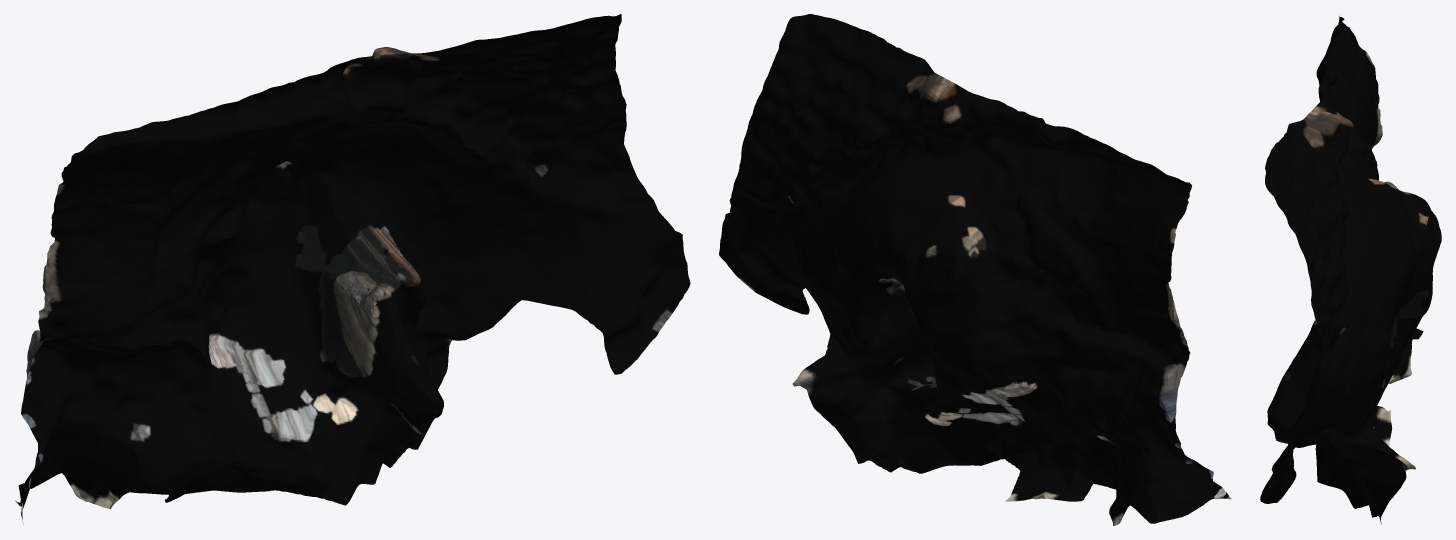
The model's file is texturedMesh.obj.
3 renders of one model, left to right at view 1: azimuth 30°, elevation 25°; view 2: azimuth 150°, elevation 25°; view 3: azimuth 270°, elevation 25°, orthographic. The views are drawn at different scales.
Visible parts, largest first — view 1: TexturedMesh; view 2: TexturedMesh; view 3: TexturedMesh.
Boxes of the visible parts, x1=… form: TexturedMesh: x1=15, y1=14, x2=690, y2=524; TexturedMesh: x1=719, y1=14, x2=1231, y2=525; TexturedMesh: x1=1260, y1=16, x2=1441, y2=524.
Bounding box in the file's own units: 1.7 × 1.18 × 0.4798.
1 material, 1 textured.
